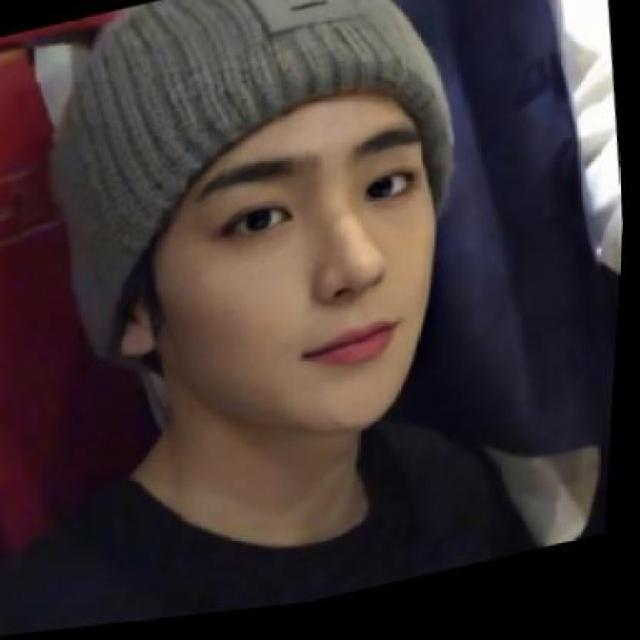hat: (25, 0, 488, 374)
